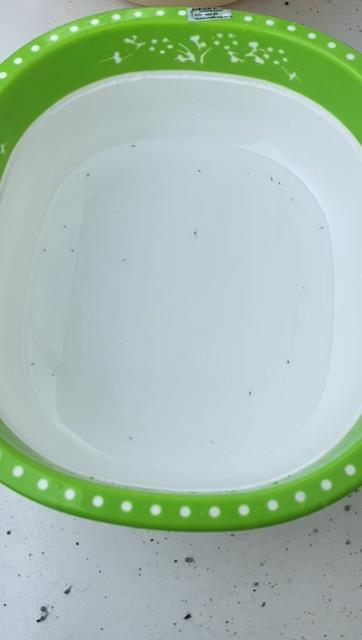benur: (285, 357, 294, 368), (289, 194, 297, 205), (190, 228, 200, 236), (129, 140, 137, 149), (127, 434, 135, 443), (247, 389, 254, 397), (300, 285, 307, 292), (245, 169, 253, 175), (30, 360, 36, 367), (319, 224, 326, 230), (120, 257, 126, 263), (277, 181, 283, 187), (50, 372, 55, 379), (85, 172, 90, 178), (269, 176, 275, 181), (63, 224, 68, 229), (71, 247, 75, 253), (43, 248, 47, 253), (197, 169, 202, 173)
